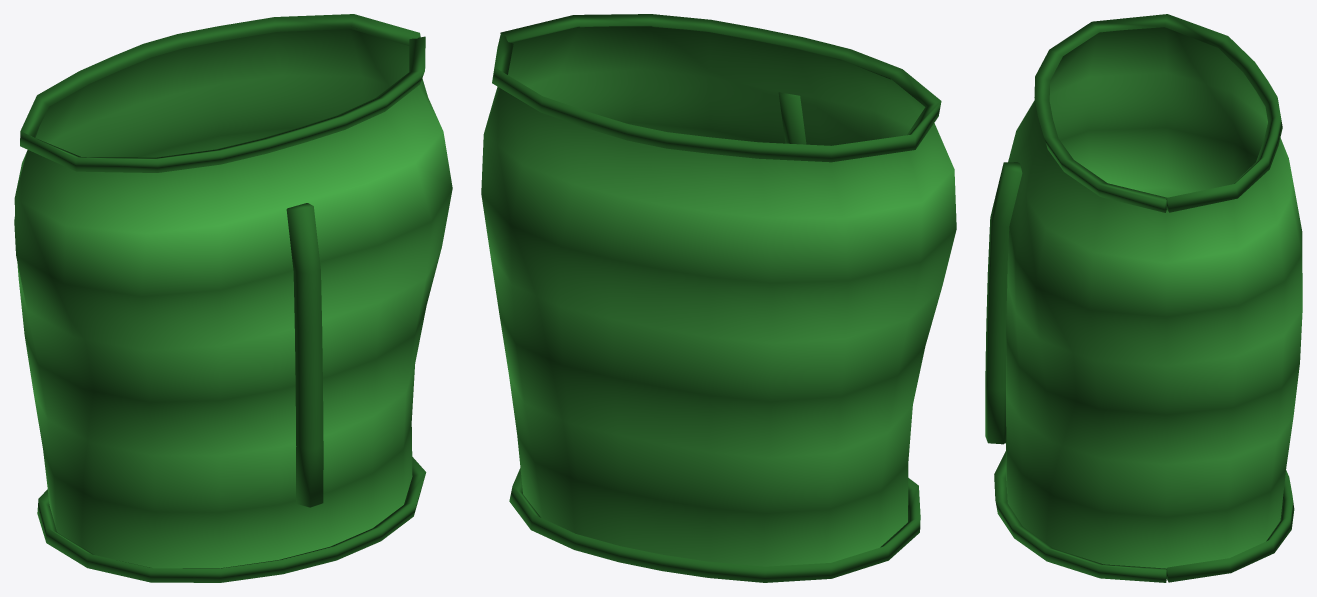
Rendered from chlorophyte_armor_chest.glb.
3 views of the same model, side by side, from view 1: azimuth 30°, elevation 25°; view 2: azimuth 150°, elevation 25°; view 3: azimuth 270°, elevation 25° (orthographic). The views are drawn at different scales.
Parts seen in each view (by area): view 1: chlorophyte_armor_chest; view 2: chlorophyte_armor_chest; view 3: chlorophyte_armor_chest.
Boxes of the visible parts, x1,y1,x2,y2 form: chlorophyte_armor_chest: (14, 14, 452, 582); chlorophyte_armor_chest: (481, 14, 956, 582); chlorophyte_armor_chest: (985, 14, 1302, 582).
Bounding box in the file's own units: 0.3976 × 0.3857 × 0.2799.
